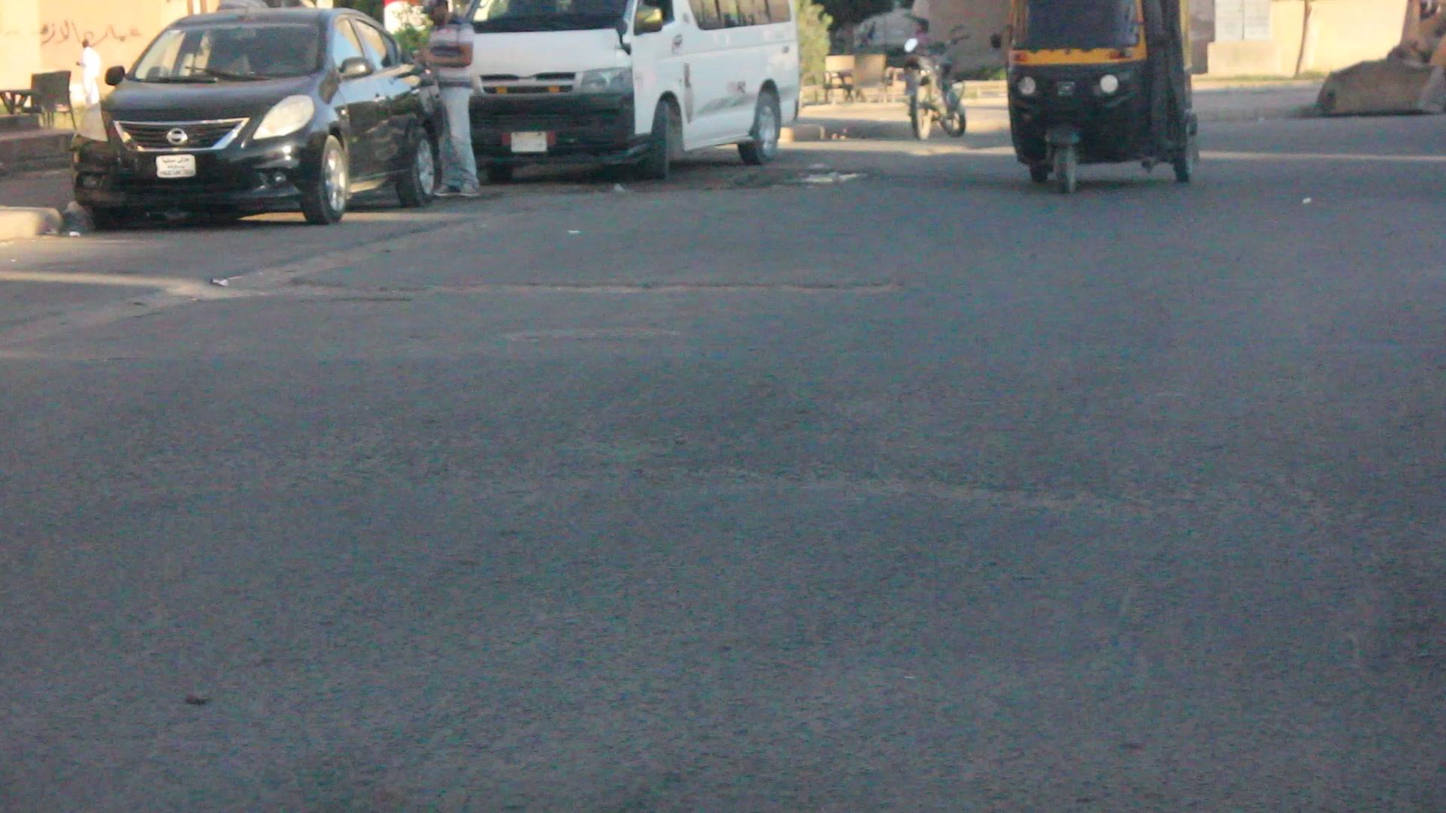Pothole: (262, 263, 924, 301)
